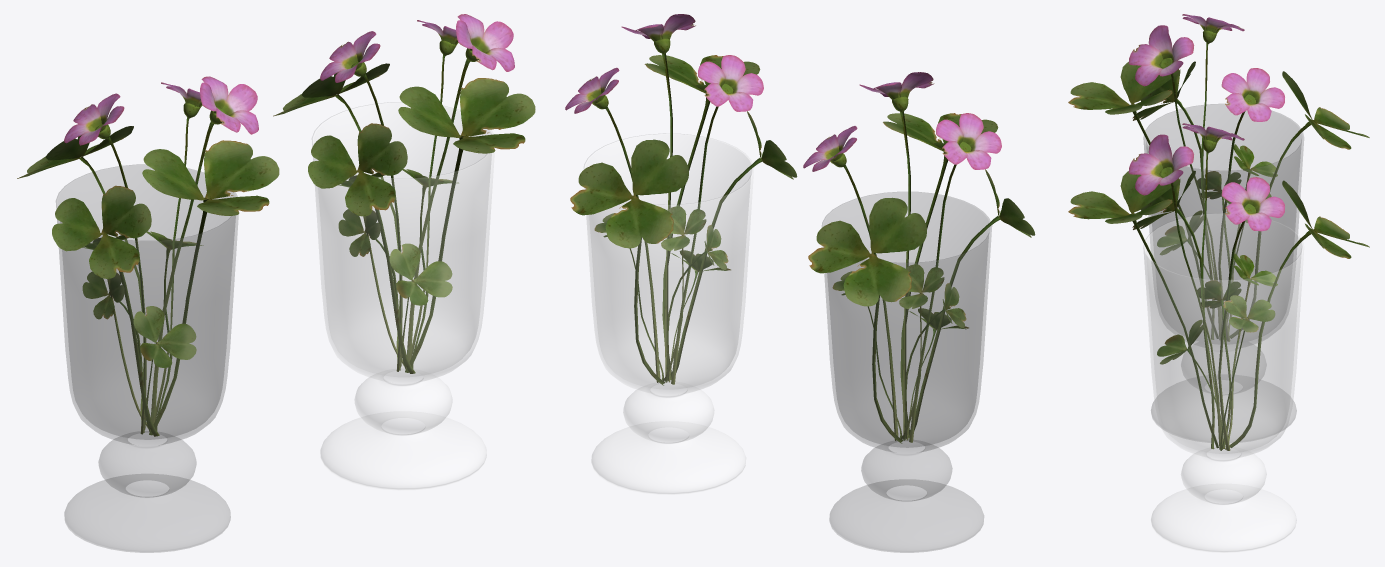
Rendered from vase.glb.
3 renders of one model, left to right at view 1: azimuth 30°, elevation 25°; view 2: azimuth 150°, elevation 25°; view 3: azimuth 270°, elevation 25°, orthographic. The views are drawn at different scales.
Parts seen in each view (by area): view 1: GlassAlpha, GlassTransmission, Flowers2, Flowers1; view 2: GlassAlpha, GlassTransmission, Flowers2, Flowers1; view 3: GlassTransmission, GlassAlpha, Flowers2, Flowers1.
Boxes of the visible parts, left/top/right/bottom form: GlassAlpha: left=56, top=164, right=238, bottom=552; GlassTransmission: left=312, top=102, right=494, bottom=490; Flowers2: left=273, top=14, right=535, bottom=373; Flowers1: left=17, top=76, right=279, bottom=436; GlassAlpha: left=822, top=192, right=991, bottom=552; GlassTransmission: left=584, top=133, right=753, bottom=494; Flowers2: left=565, top=14, right=797, bottom=385; Flowers1: left=803, top=72, right=1035, bottom=443; GlassTransmission: left=1143, top=213, right=1303, bottom=552; GlassAlpha: left=1143, top=104, right=1303, bottom=442; Flowers2: left=1068, top=123, right=1369, bottom=450; Flowers1: left=1068, top=14, right=1369, bottom=341.
Size of the model in its own units: 0.2173 by 0.2032 by 0.1425.
Materials: 3 (1 with a texture image).
